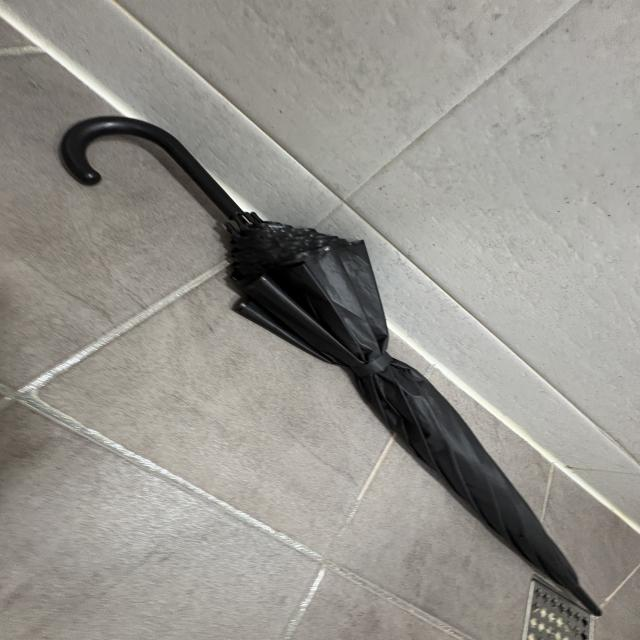umbrella: (57, 114, 601, 619)
